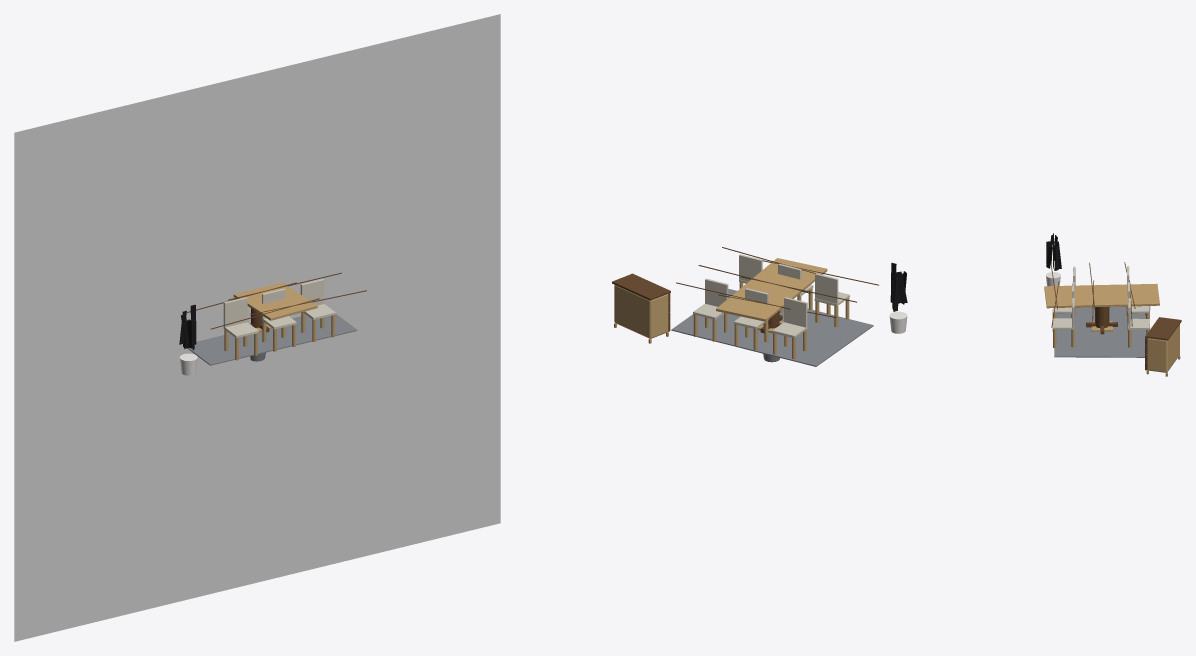
File: dining-room.glb
The picture shows the model from 3 angles, left to right: view 1: azimuth 30°, elevation 25°; view 2: azimuth 150°, elevation 25°; view 3: azimuth 270°, elevation 25°; orthographic projection. The views are drawn at different scales.
Visible parts, largest first — view 1: object 1, object 12, object 2, object 13; view 2: object 12, object 13, object 75, object 88; view 3: object 12, object 13, object 75, object 88, object 14, object 48, object 54.
Part boxes in pixels (x1=…): object 1: x1=14, y1=14, x2=500, y2=641; object 12: x1=187, y1=314, x2=357, y2=365; object 2: x1=209, y1=238, x2=304, y2=390; object 13: x1=233, y1=282, x2=317, y2=320; object 12: x1=671, y1=289, x2=873, y2=366; object 13: x1=716, y1=258, x2=827, y2=321; object 75: x1=614, y1=285, x2=668, y2=338; object 88: x1=612, y1=273, x2=670, y2=300; object 12: x1=1054, y1=306, x2=1150, y2=357; object 13: x1=1044, y1=283, x2=1159, y2=308; object 75: x1=1147, y1=324, x2=1179, y2=372; object 88: x1=1145, y1=317, x2=1181, y2=340; object 14: x1=1095, y1=307, x2=1109, y2=327; object 48: x1=1053, y1=318, x2=1074, y2=329; object 54: x1=1128, y1=318, x2=1149, y2=329.
Bounding box in the file's own units: 10 × 10 × 2.91.
